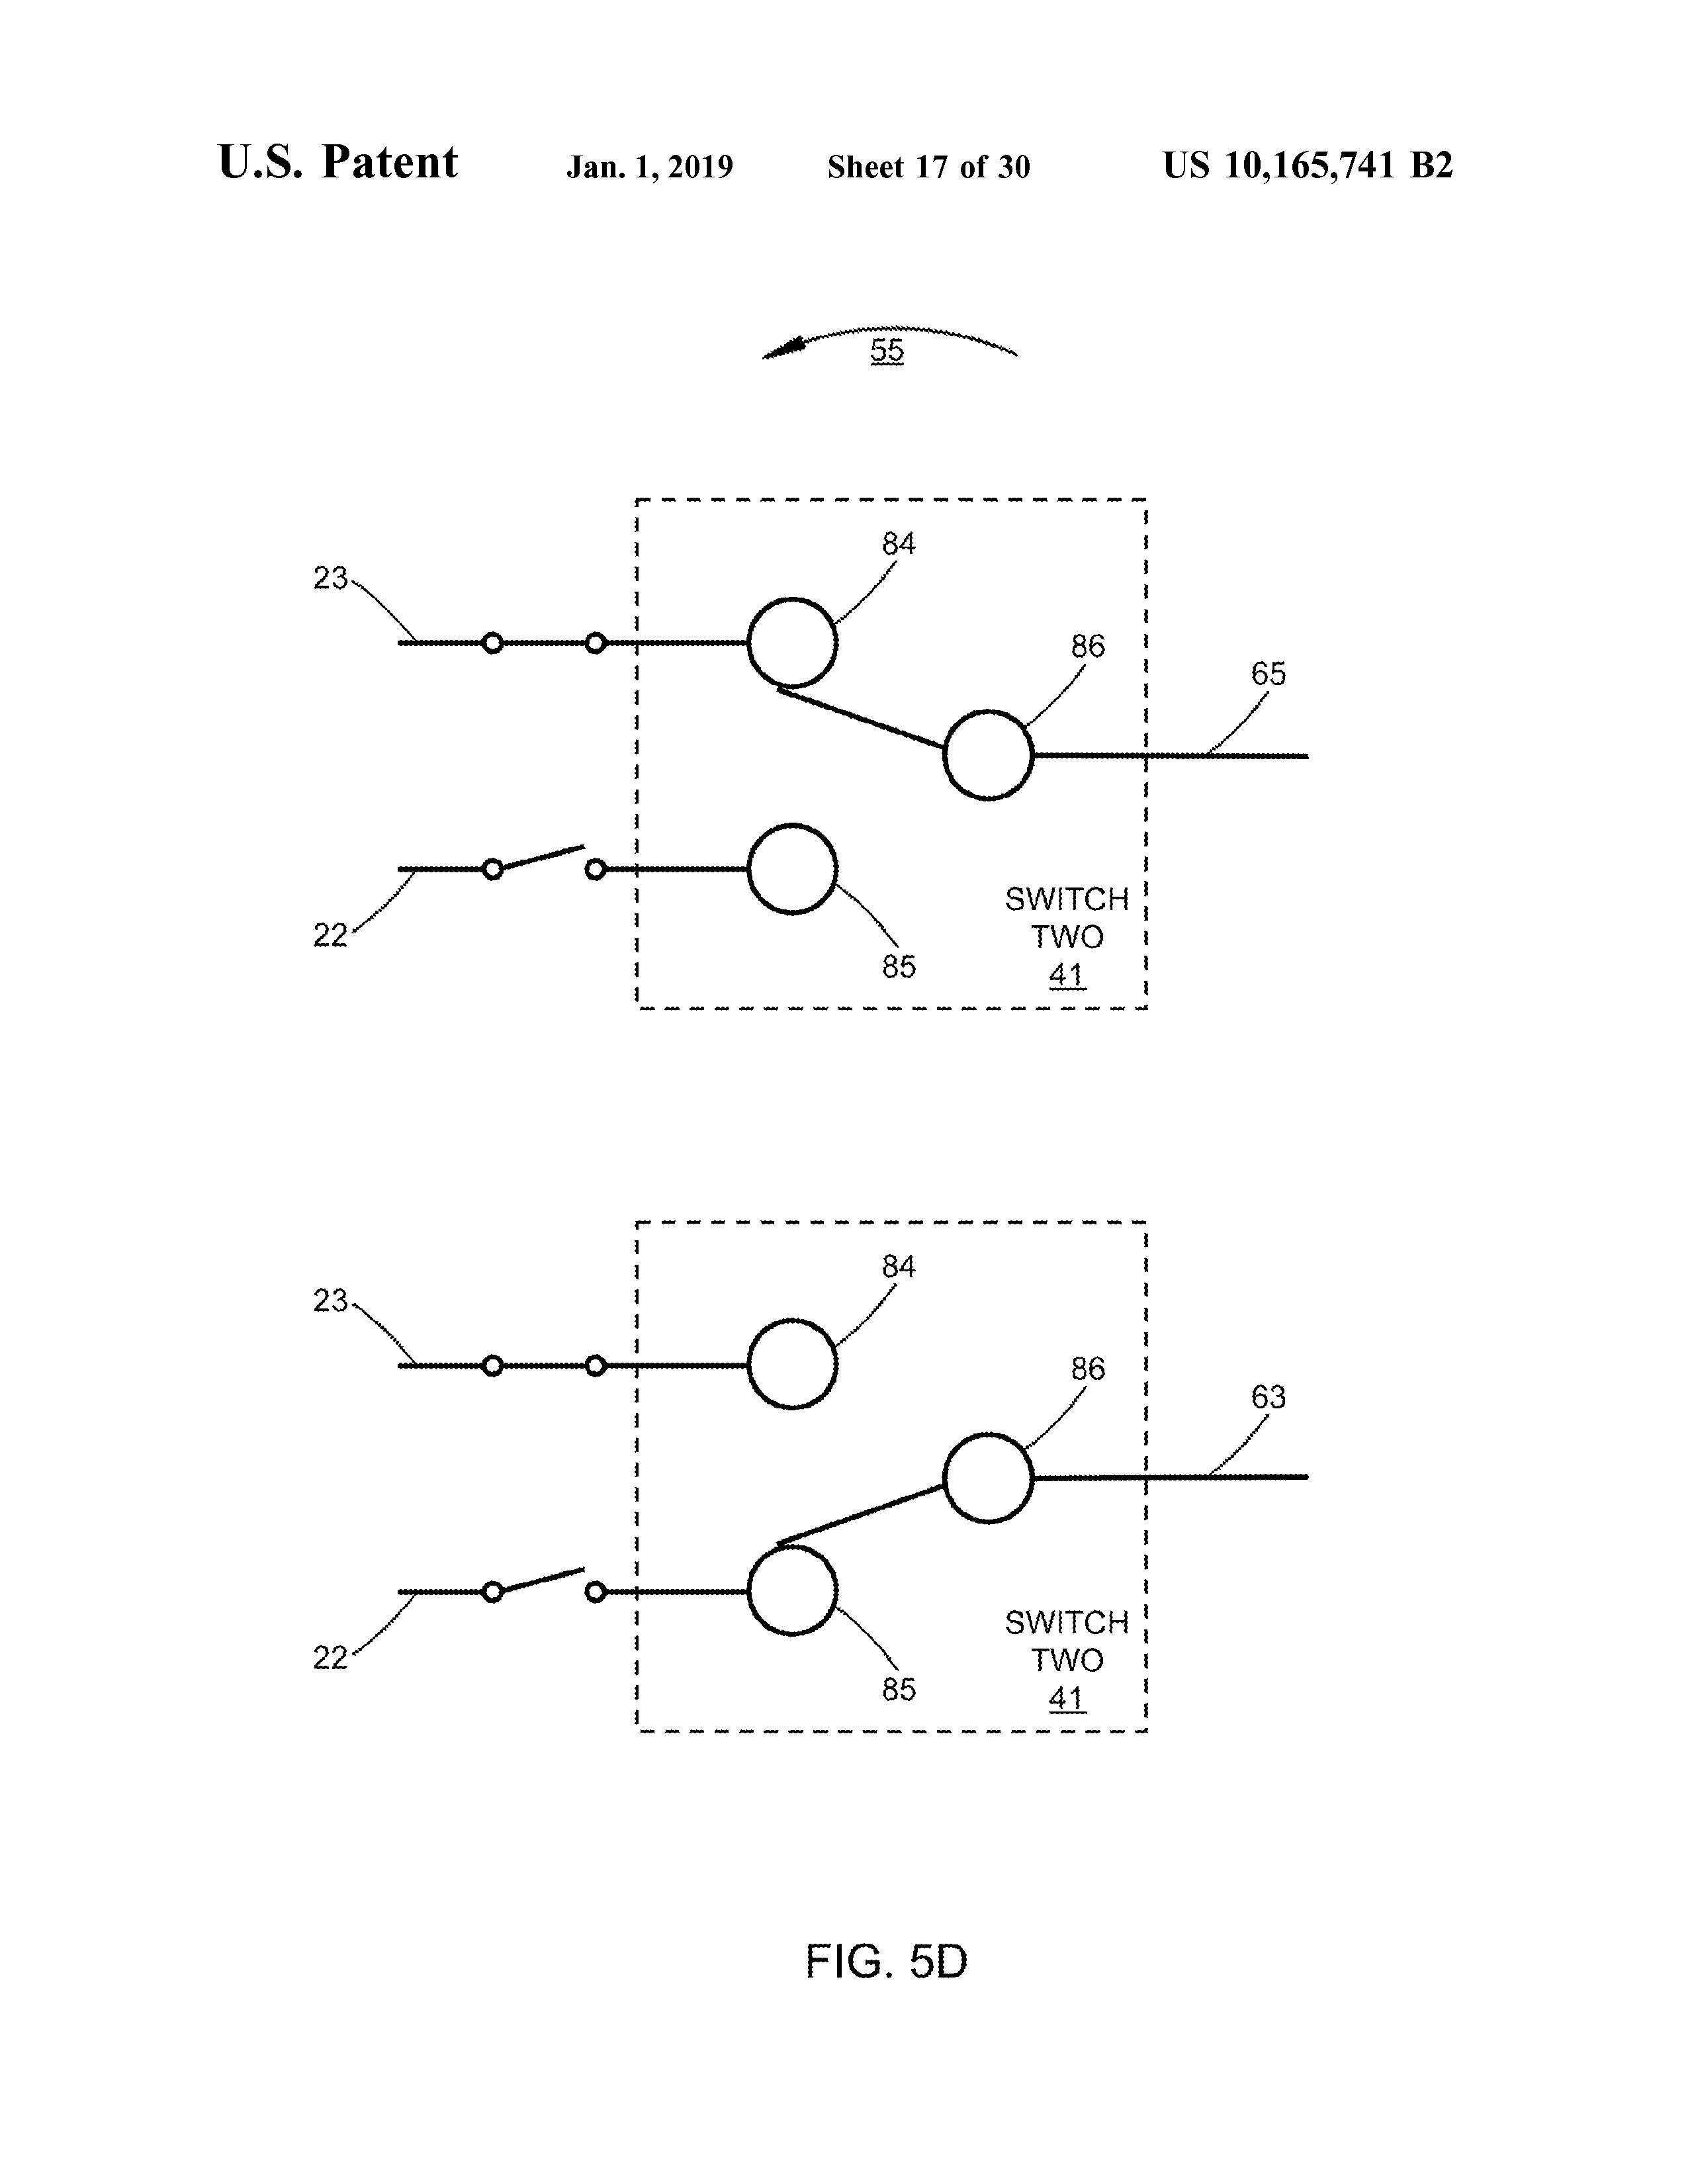patent image: (272, 287, 1347, 2005)
